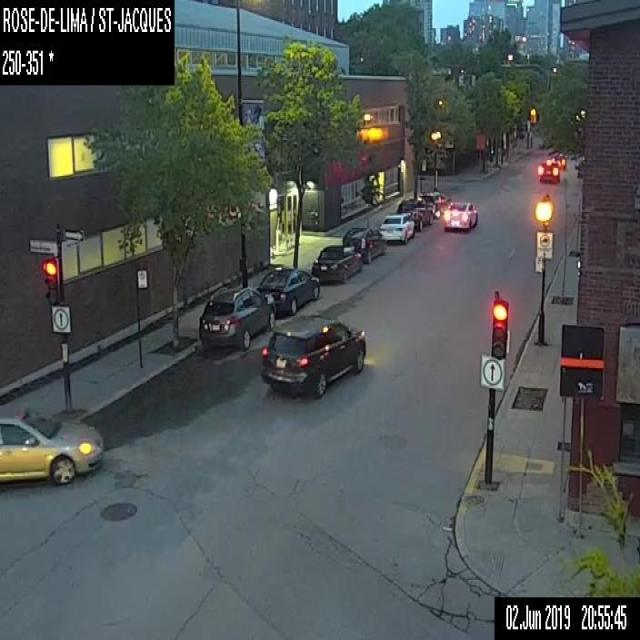vehicle: (0, 399, 105, 485), (262, 313, 366, 398), (198, 282, 273, 350), (258, 265, 320, 312), (310, 245, 363, 283), (342, 226, 386, 262), (442, 200, 478, 230), (380, 213, 416, 242), (398, 197, 432, 227), (422, 191, 450, 220), (536, 158, 560, 183), (547, 153, 566, 170)
